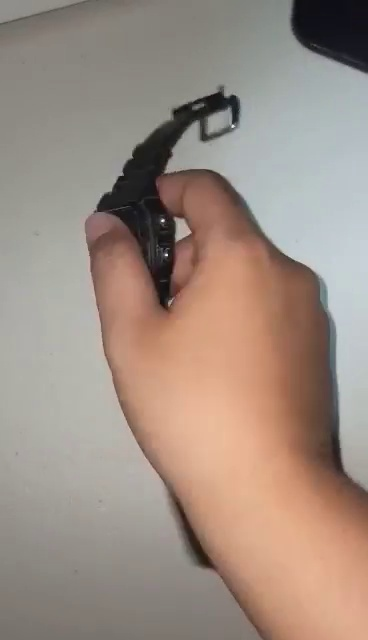hand: (84, 168, 340, 480)
watch: (98, 88, 242, 306)
